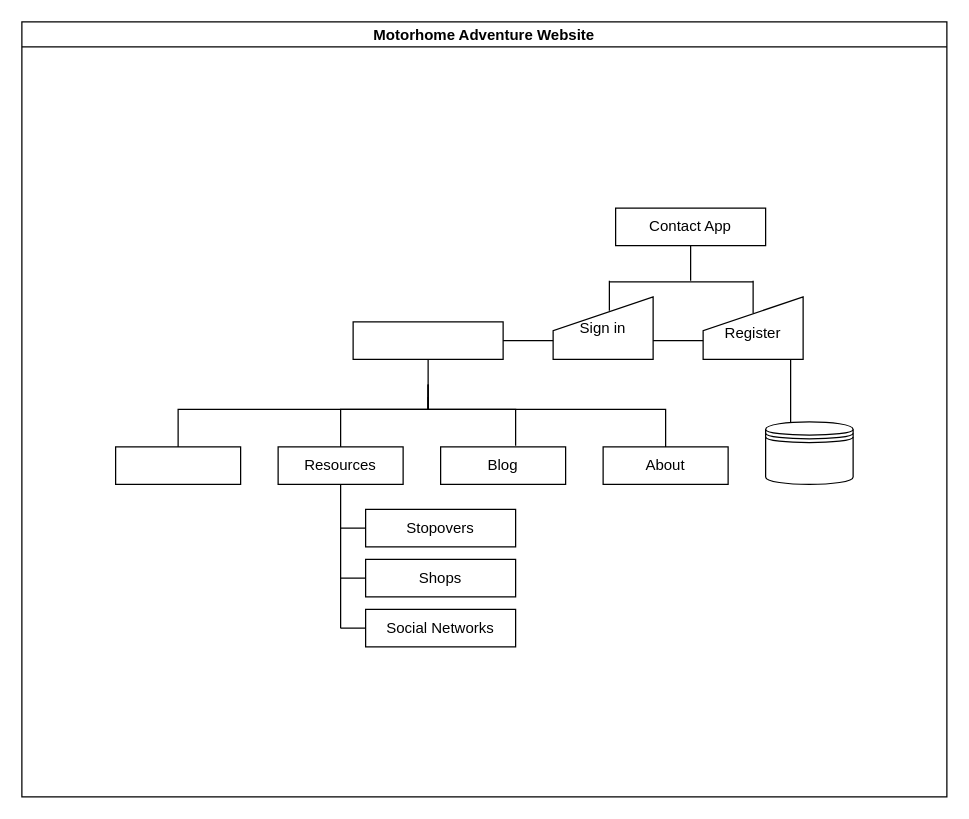
Image size: 969x819. Some labels were removed from this diagram. The centre of each missing label's shape, as x and y in pixels:
"Home" goes at point 427,340.
"Personal Data" goes at point 808,452.
"Rental" goes at point 177,465.
